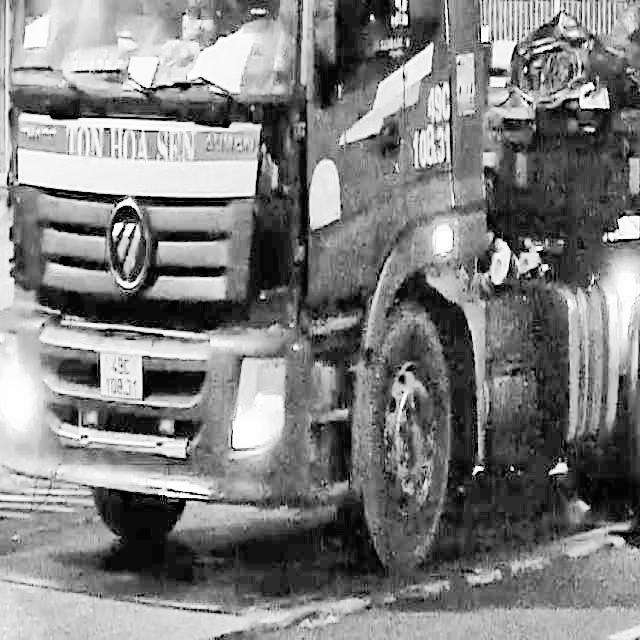Truck: (0, 0, 638, 577)
